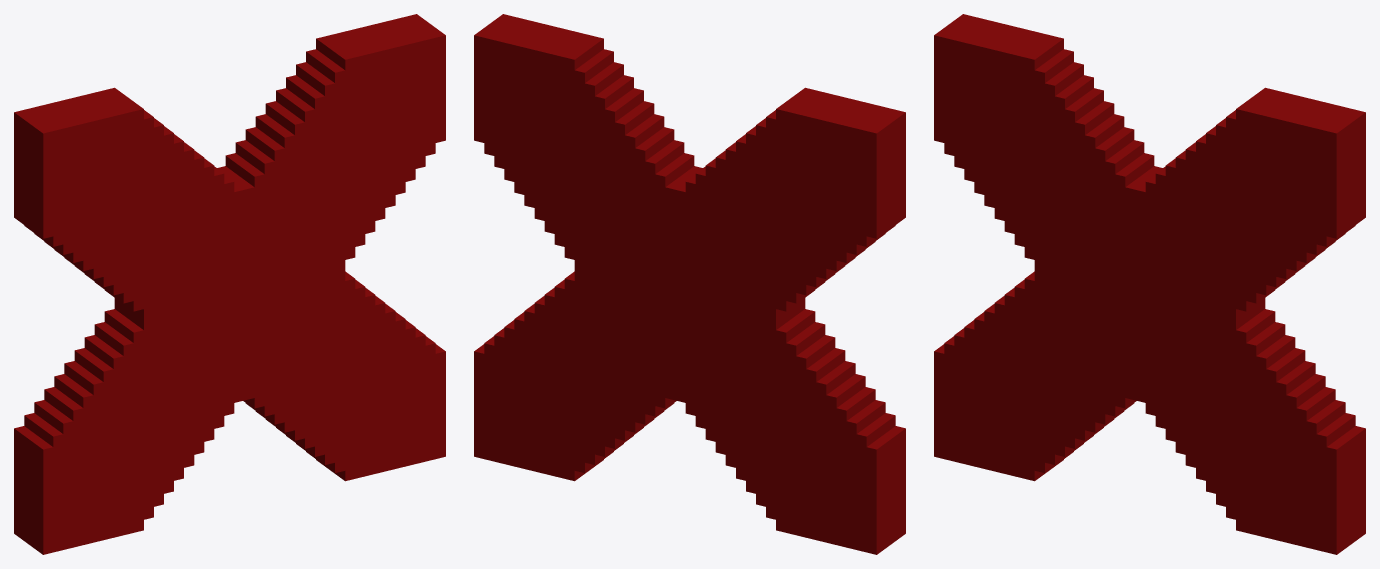
The model's file is cruz.obj.
3 renders of one model, left to right at view 1: azimuth 30°, elevation 25°; view 2: azimuth 150°, elevation 25°; view 3: azimuth 330°, elevation 25°, orthographic.
Size of the model in its own units: 4 by 4 by 0.5.
Materials: 1 (1 with a texture image).
